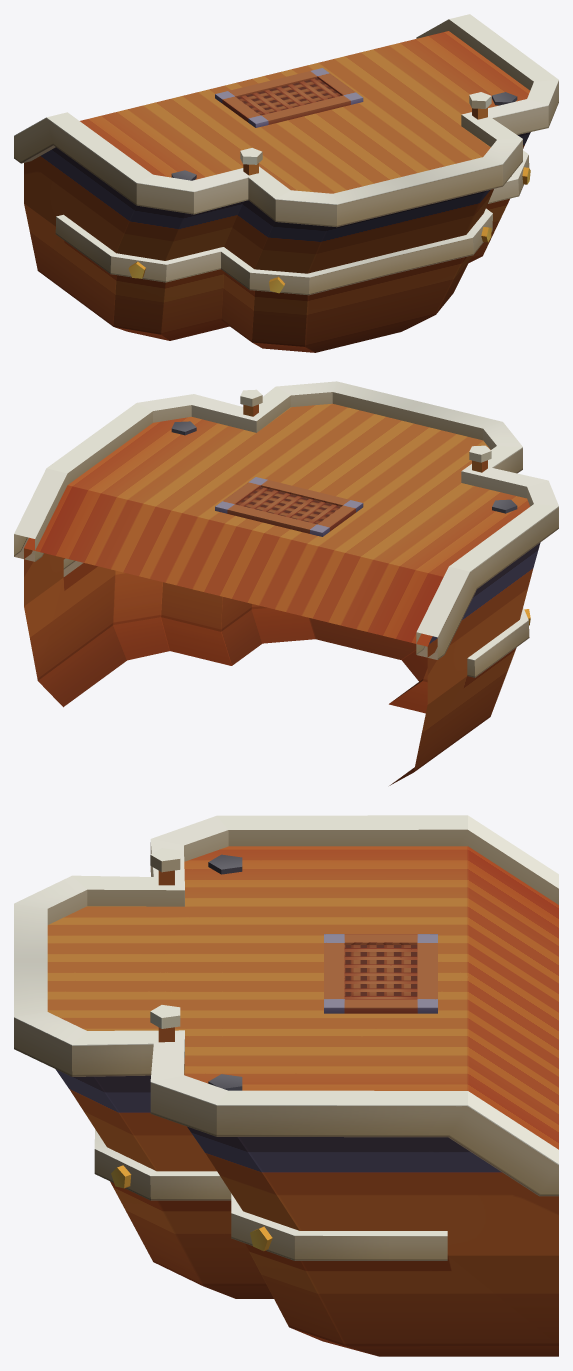
Rendered from Pirate_Ship_We_Bow_001.FBX.
The picture shows the model from 3 angles, top to bottom: view 1: azimuth 30°, elevation 25°; view 2: azimuth 150°, elevation 25°; view 3: azimuth 270°, elevation 25°; orthographic projection. The views are drawn at different scales.
Bounding box in the file's own units: 21.22 × 10.66 × 16.85.
